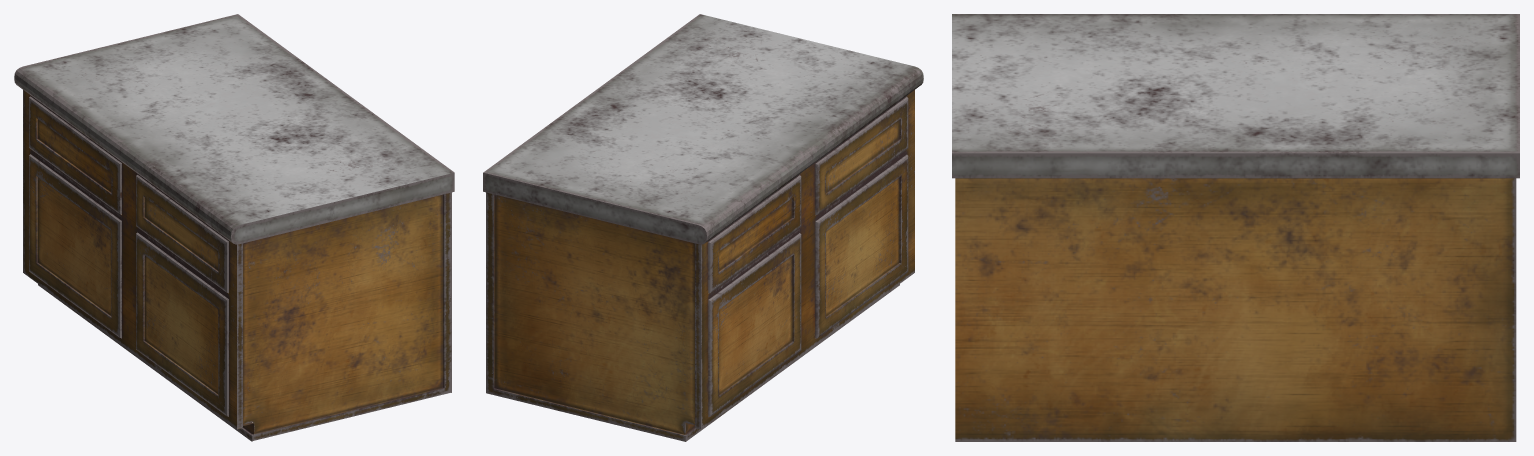
File: S_CookingFacilitiesC.fbx
3 renders of one model, left to right at view 1: azimuth 30°, elevation 25°; view 2: azimuth 150°, elevation 25°; view 3: azimuth 270°, elevation 25°, orthographic. The views are drawn at different scales.
Visible parts, largest first — view 1: S_CookingFacilitiesC, S_CookingFacilitiesC_Set; view 2: S_CookingFacilitiesC, S_CookingFacilitiesC_Set; view 3: S_CookingFacilitiesC, S_CookingFacilitiesC_Set.
Part boxes in pixels (x1=…): S_CookingFacilitiesC: x1=14, y1=66, x2=454, y2=441; S_CookingFacilitiesC_Set: x1=23, y1=14, x2=454, y2=224; S_CookingFacilitiesC: x1=483, y1=66, x2=923, y2=441; S_CookingFacilitiesC_Set: x1=483, y1=14, x2=914, y2=224; S_CookingFacilitiesC: x1=952, y1=14, x2=1519, y2=441; S_CookingFacilitiesC_Set: x1=952, y1=15, x2=1519, y2=153.
Bounding box in the file's own units: 35.58 × 33.59 × 59.66.
